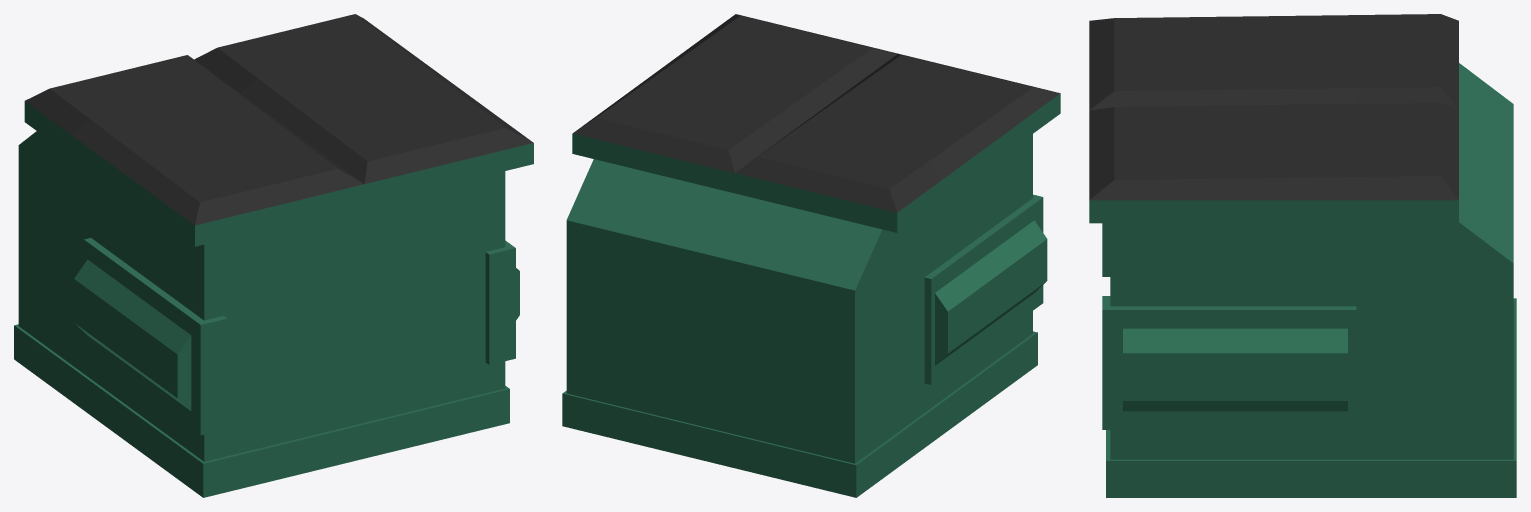
The model's file is Dumpster.FBX.
The picture shows the model from 3 angles, left to right: view 1: azimuth 30°, elevation 25°; view 2: azimuth 150°, elevation 25°; view 3: azimuth 270°, elevation 25°; orthographic projection. The views are drawn at different scales.
Visible parts, largest first — view 1: Dumpster; view 2: Dumpster; view 3: Dumpster.
Boxes of the visible parts, <box> form: Dumpster: <box>14,14,533,497</box>; Dumpster: <box>562,14,1060,497</box>; Dumpster: <box>1089,14,1516,497</box>.
Bounding box in the file's own units: 76.11 × 62.97 × 75.84.
